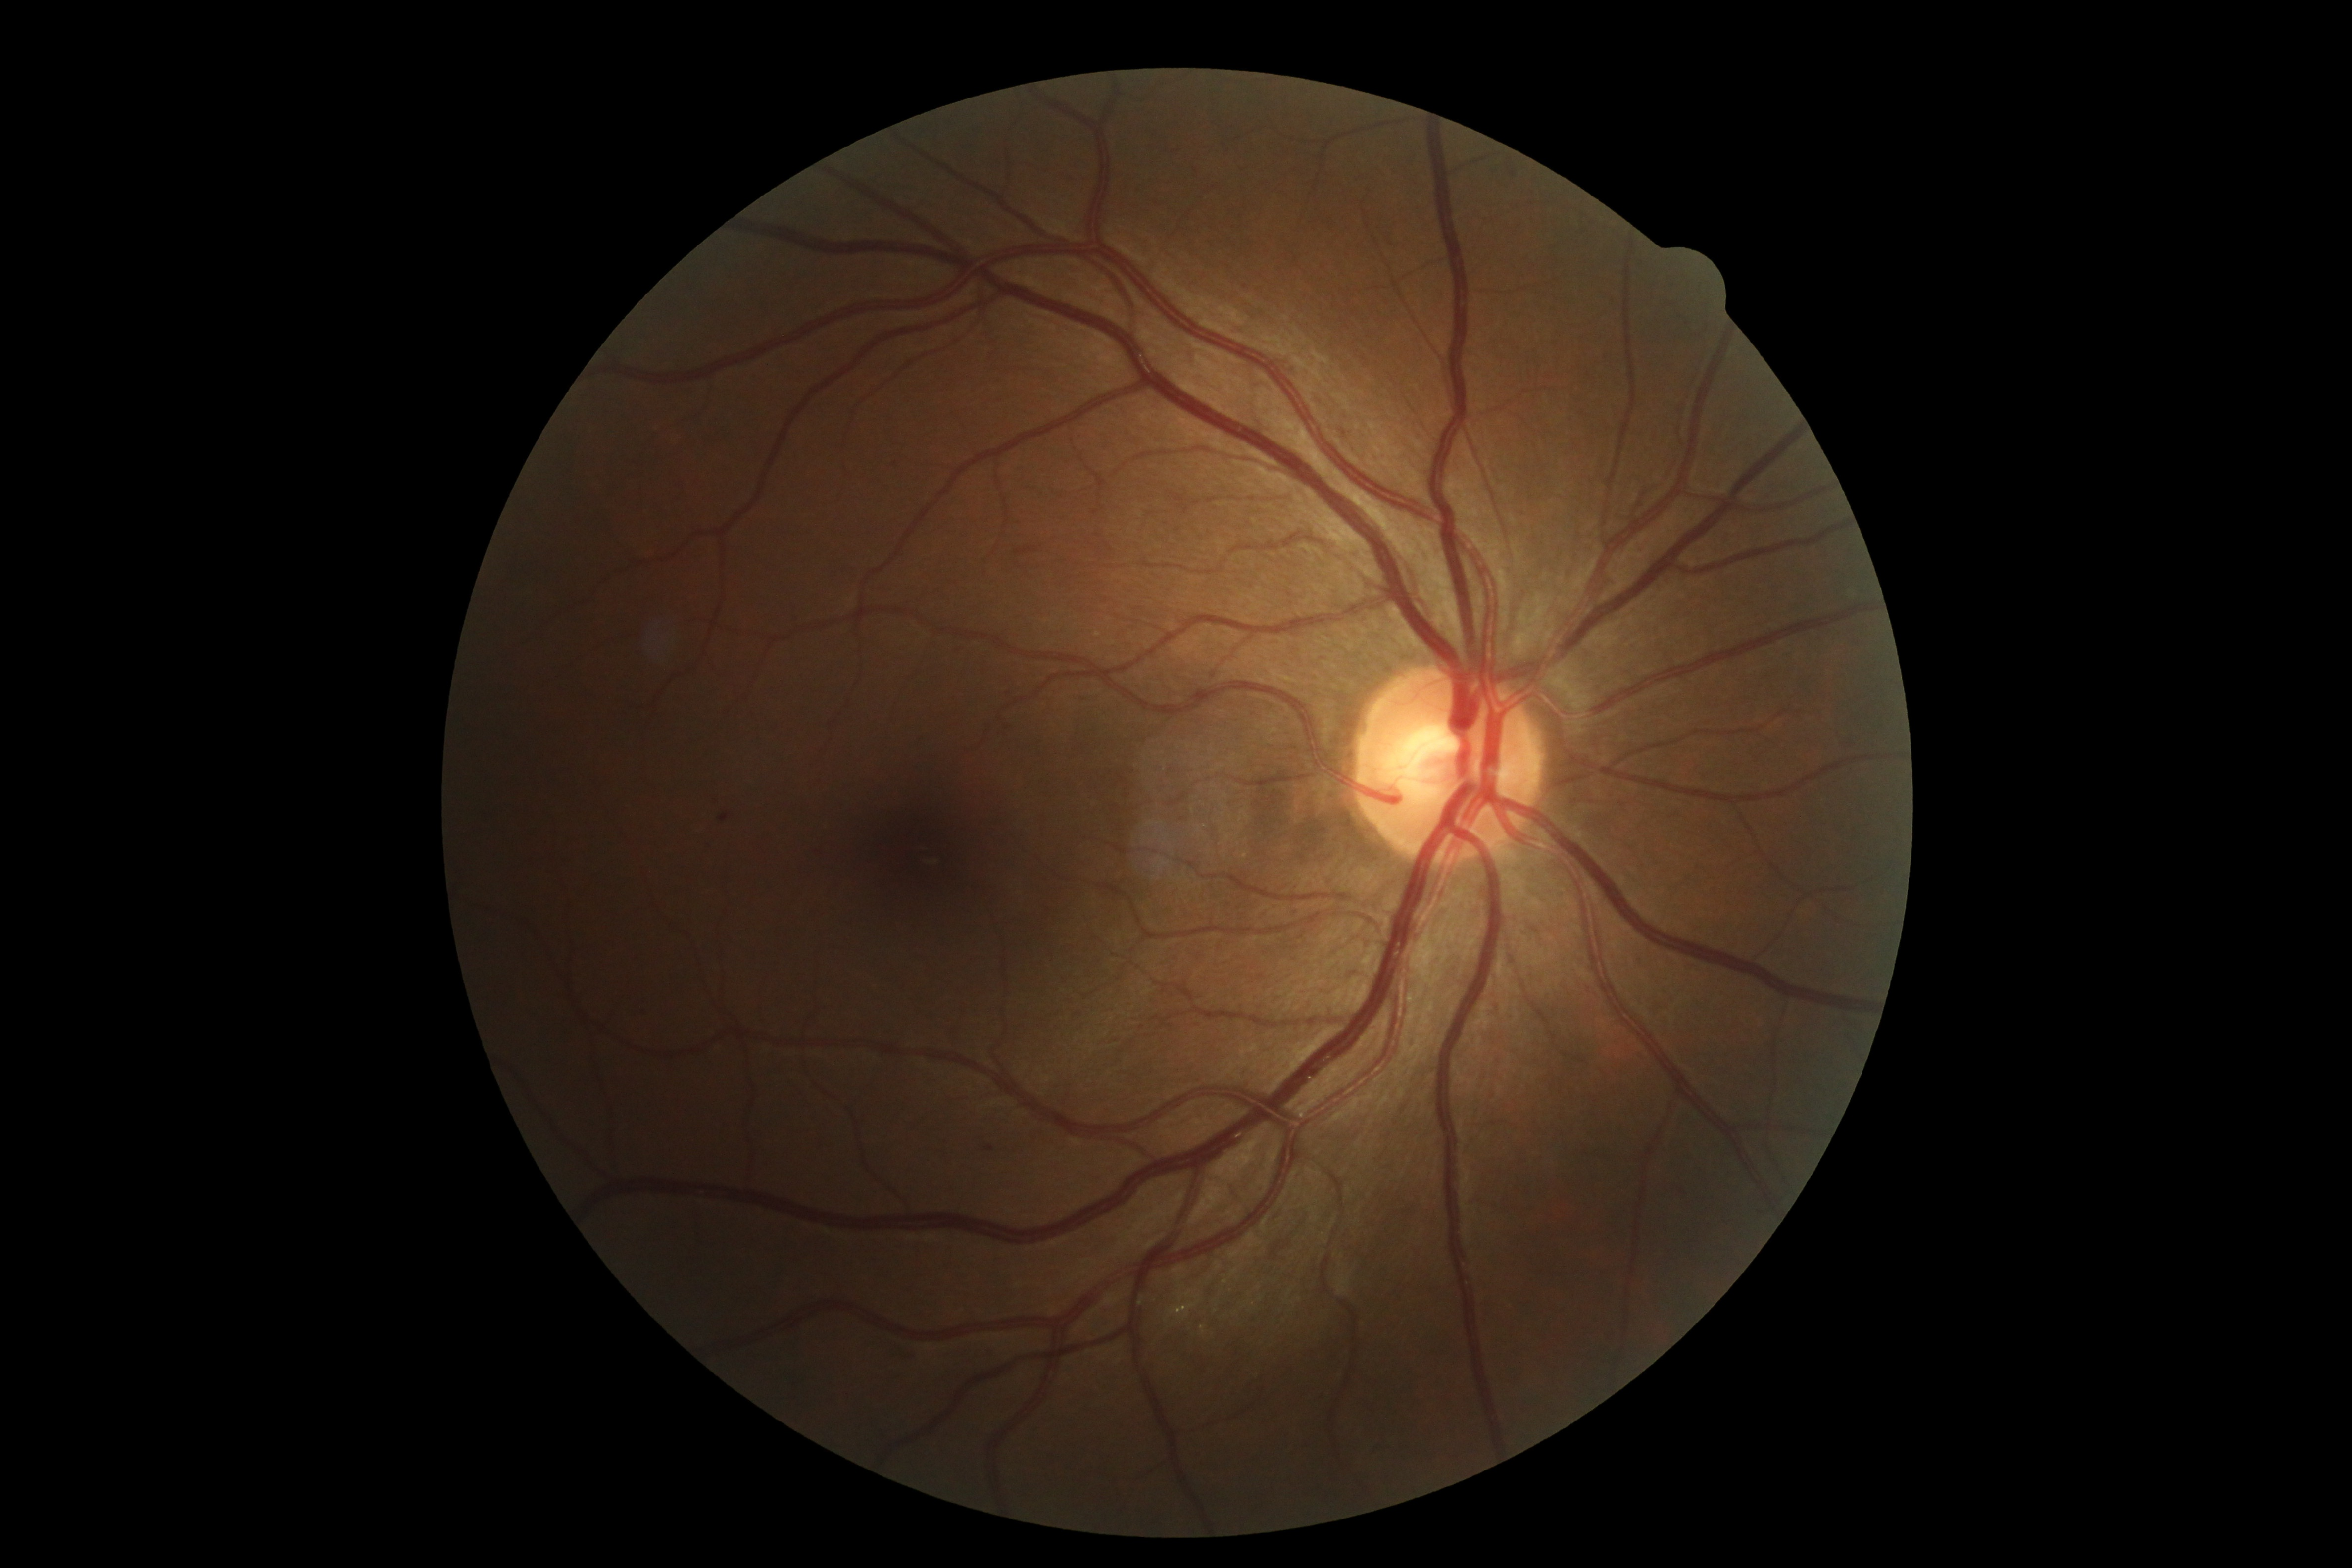Fovea: (859, 791, 1025, 952)
OD: (1351, 661, 1556, 870)
